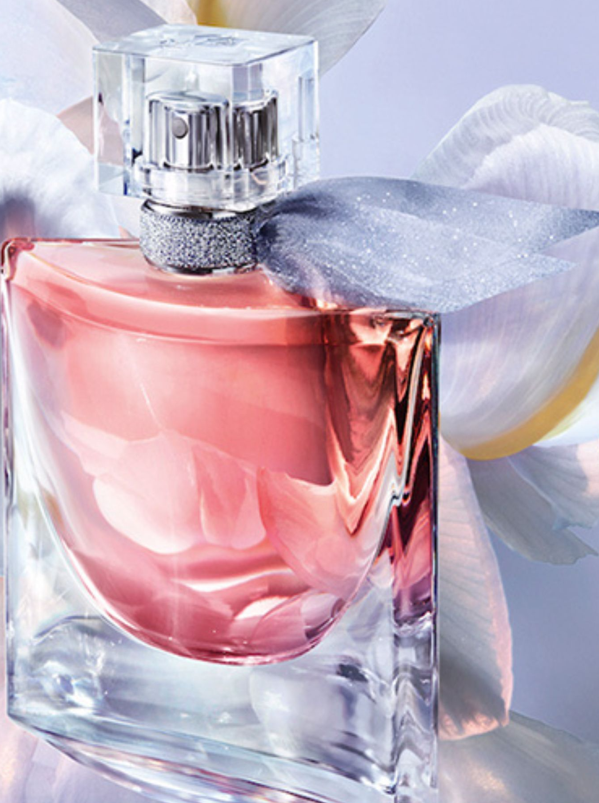lancome_la_vie_est_belle: (3, 19, 595, 793)
